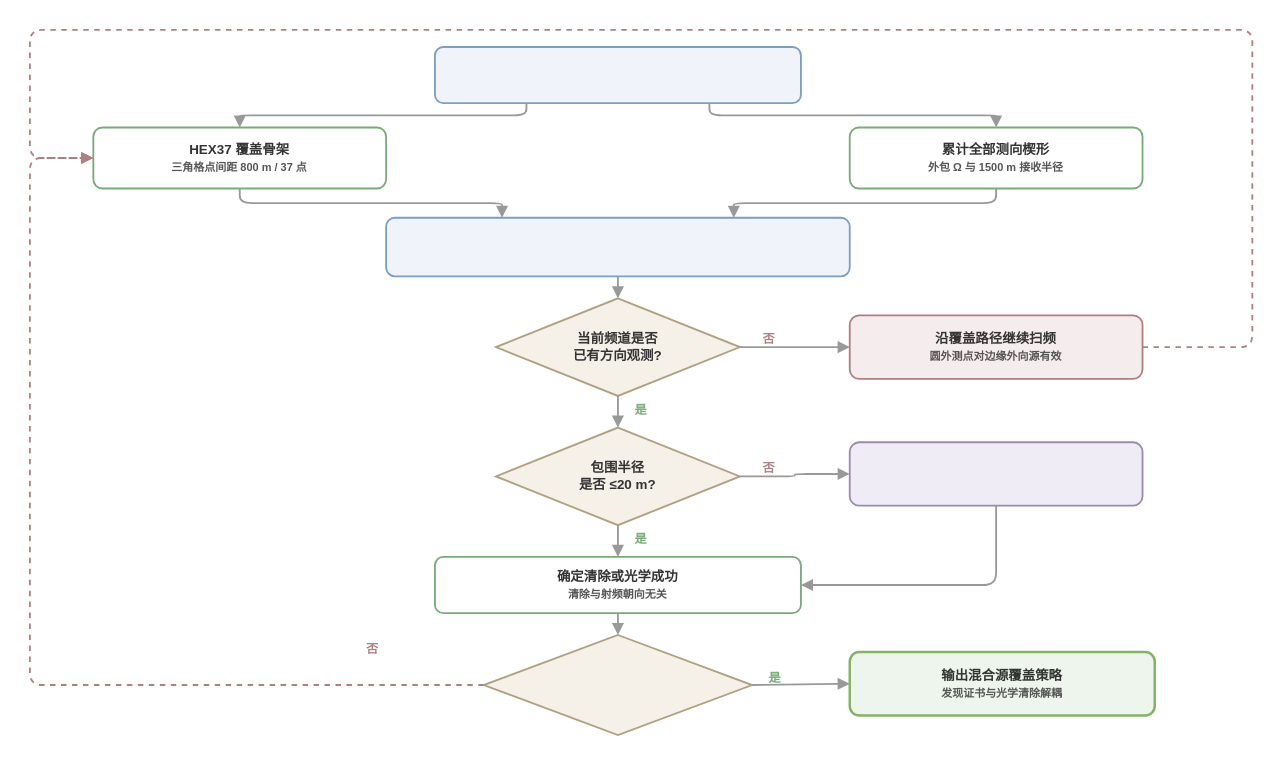
The diagram is 1285 pixels wide and 758 high, and some of its shapes have lost their labels. The shapes that lost their labels are listed below. From the top down, each one's centre as x and y in pixels, then its label:
At point (617, 74): "输入定向混合场景 继承计时与状态；朝向未知".
At point (617, 246): "改写无信号三分支 无源 / 过远 / 定向扇外，禁止挖距离圆盘".
At point (995, 473): "光学方格兜底 边长 28 m，半对角线 <20 m".
At point (617, 684): "是否 cleared 或 certified_absent?".
